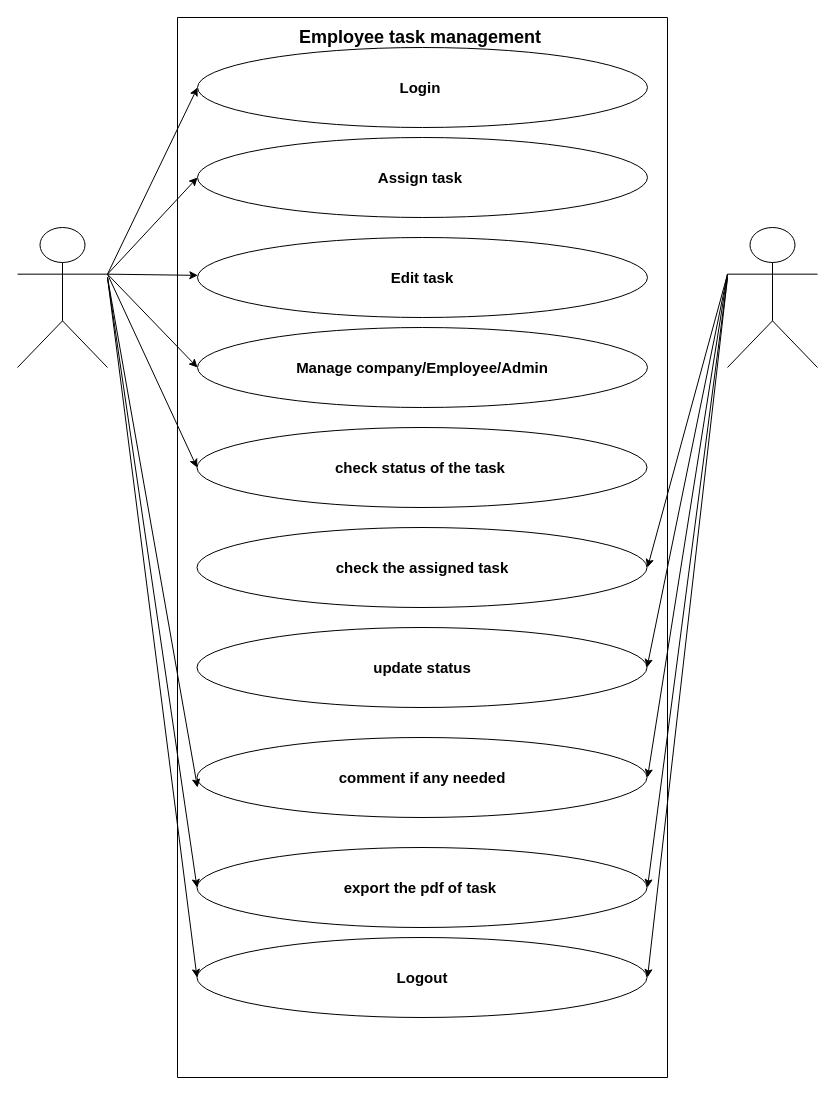
Image size: 835x1095. Some labels were removed from this diagram. Each missing label, with the box of its shape:
Admin: (16, 226, 108, 368)
Employee: (726, 226, 818, 368)
